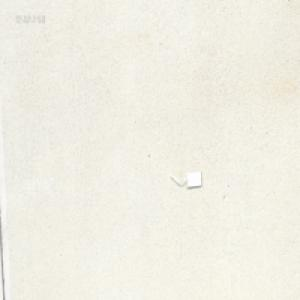LuggageTag: (169, 169, 202, 187)
